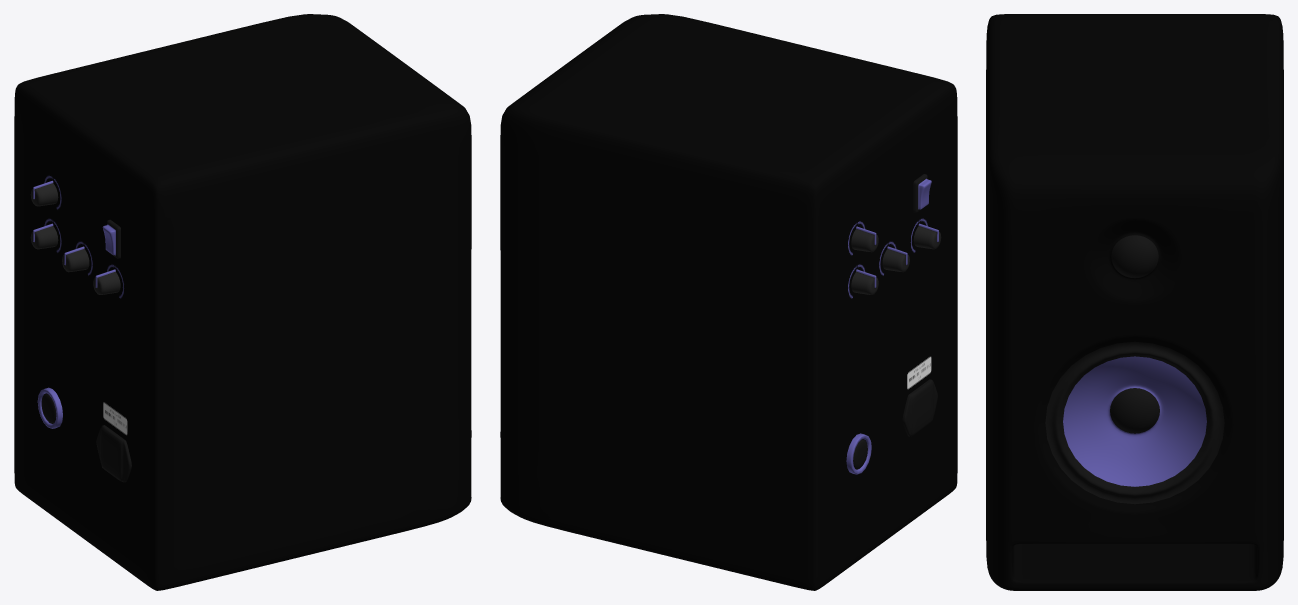
3 views of the same model, side by side, from view 1: azimuth 30°, elevation 25°; view 2: azimuth 150°, elevation 25°; view 3: azimuth 270°, elevation 25° (orthographic). The views are drawn at different scales.
Parts seen in each view (by area): view 1: Speaker, Power, Input XLR; view 2: Speaker, Power, Input XLR; view 3: Speaker.
Part boxes in pixels (x1,y1,x2,y2): Speaker: (14, 14, 471, 590); Power: (96, 425, 131, 482); Input XLR: (37, 387, 62, 428); Speaker: (500, 14, 957, 590); Power: (902, 379, 937, 436); Input XLR: (846, 433, 871, 474); Speaker: (986, 14, 1283, 590).
Bounding box in the file's own units: 0.6426 × 0.722 × 0.4602.
Materials: 10 (1 with a texture image).
